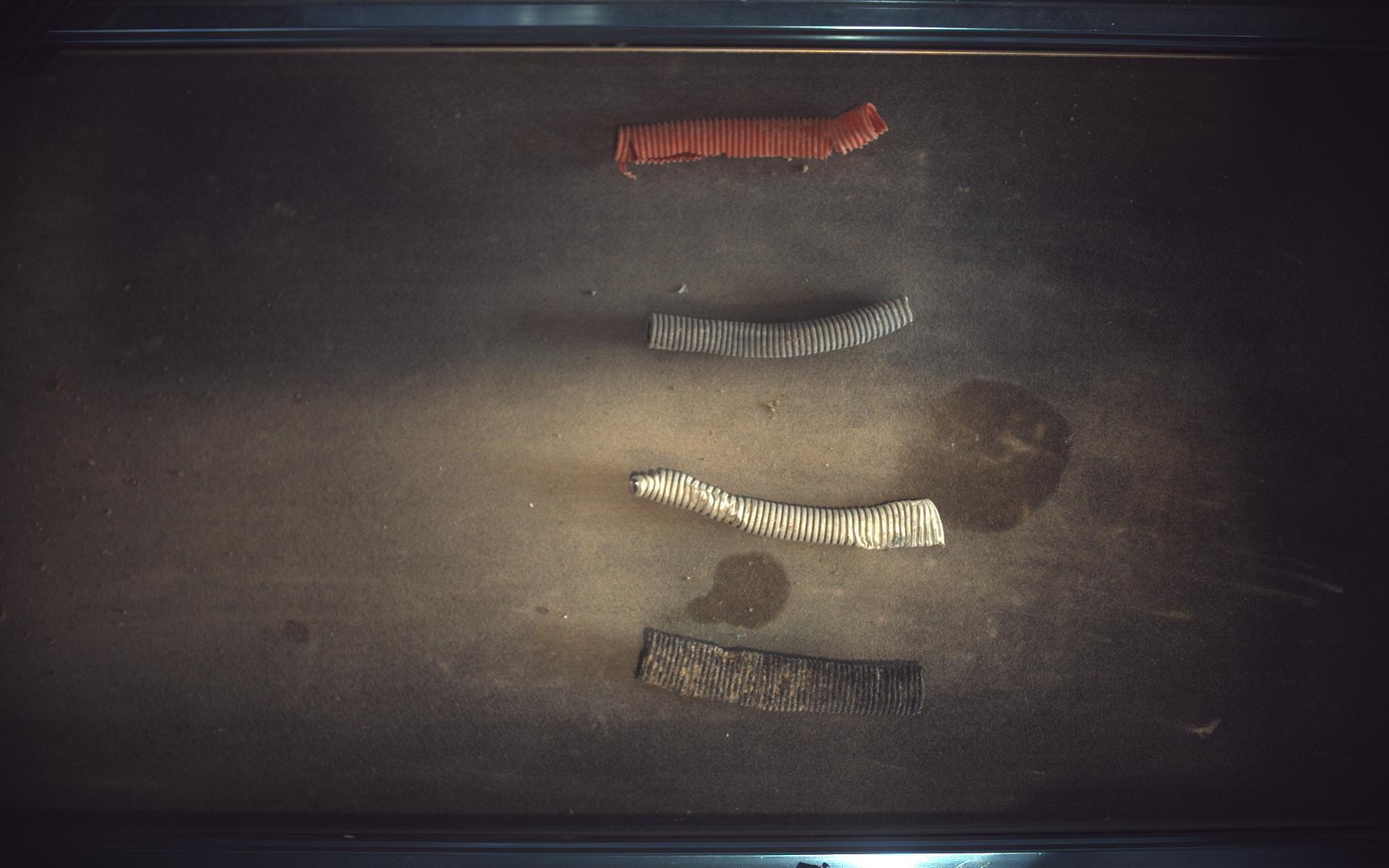pipes: (637, 629, 926, 718), (632, 469, 946, 550), (616, 101, 889, 178), (648, 297, 915, 358)
